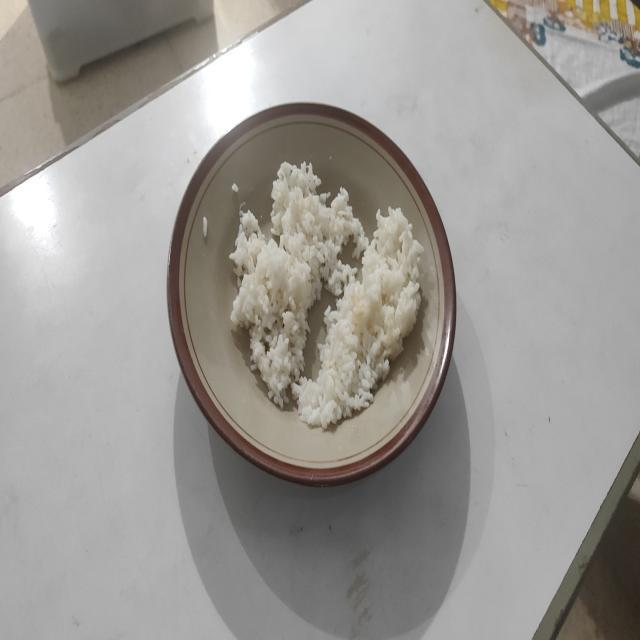nasi_putih: (230, 162, 423, 429)
